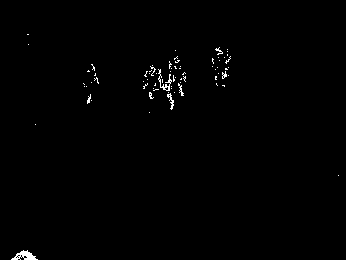person: (162, 56, 187, 112), (142, 63, 164, 105), (211, 45, 233, 86)
